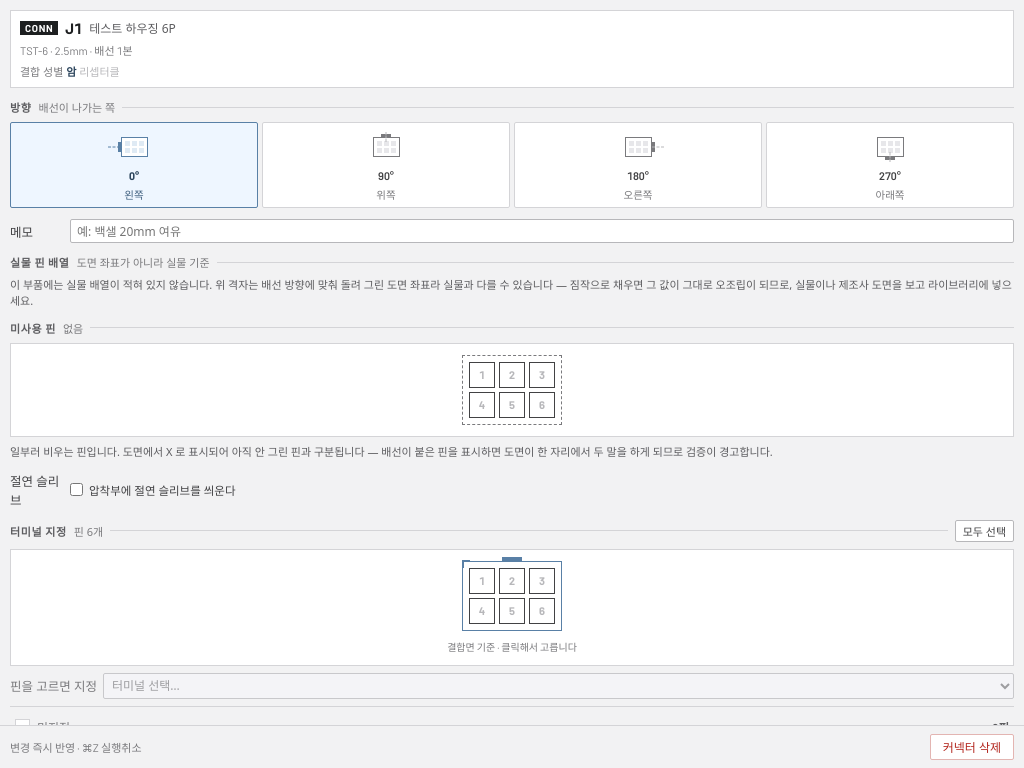
Test: (B) 커넥터 — 패드 다중 선택 후 일괄 지정 › 모두 선택 / 선택 해제로 전체 핀을 한 번에 다룬다
The width and height of the screenshot is (1024, 768).
Click the button "모두 선택" at (984, 531), box [955,520,1014,542]
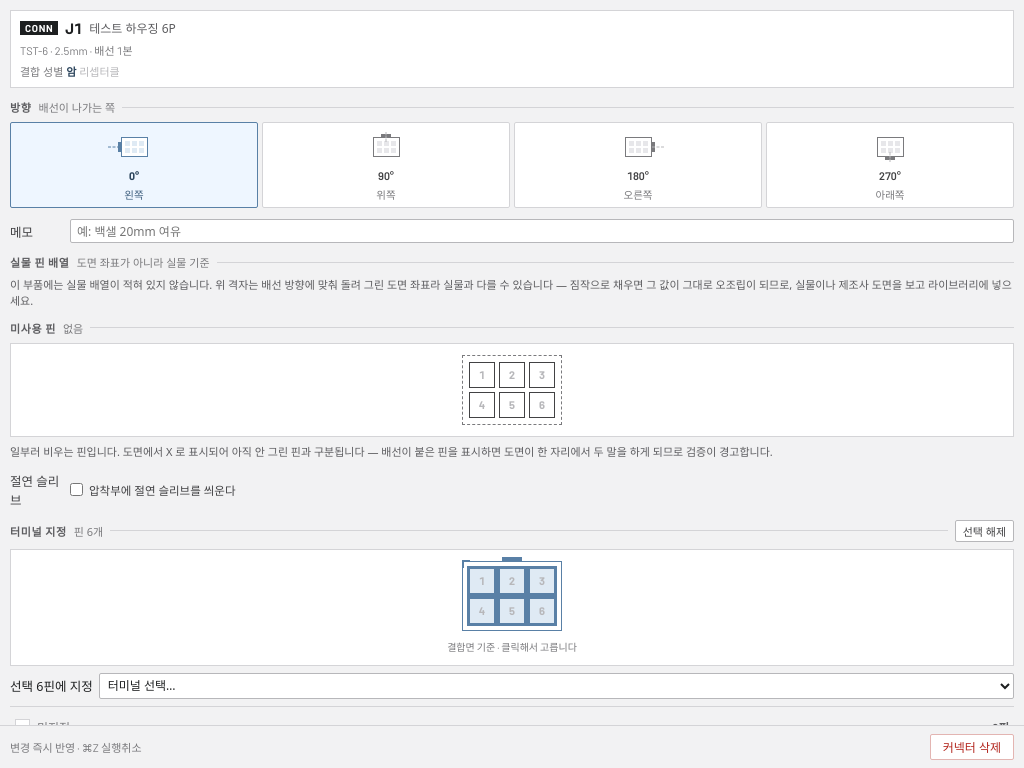
Now the text "선택 6핀에 지정" is shown, box [10,676,93,695]
Click the button "선택 해제" at (984, 531), box [955,520,1014,542]
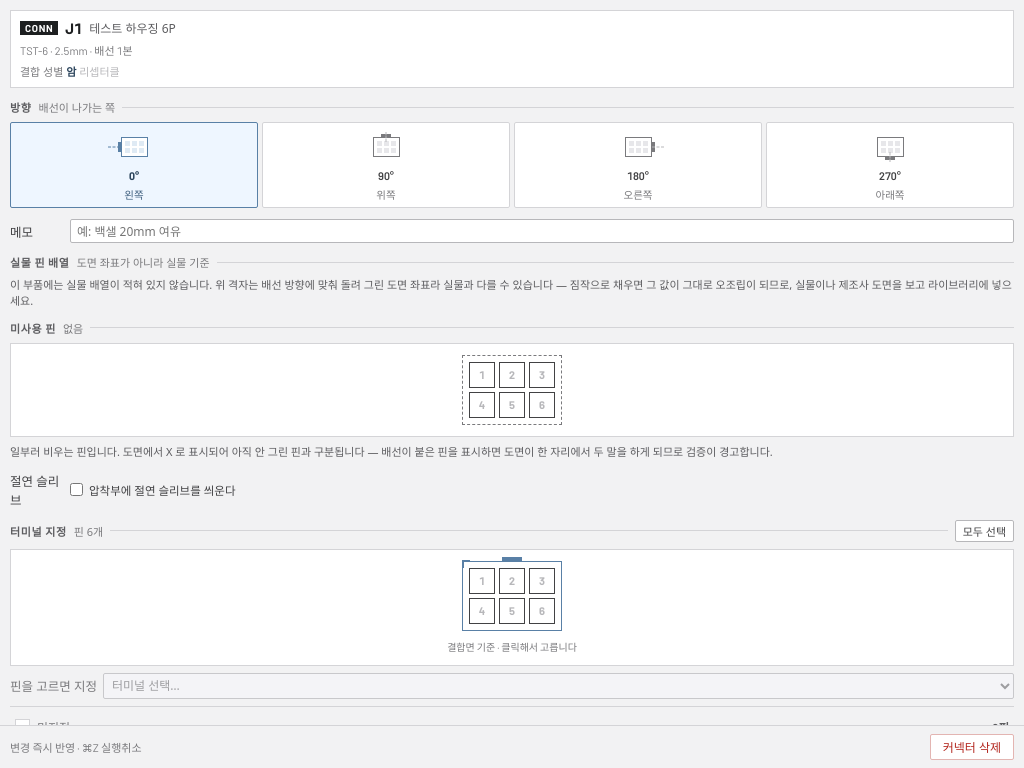
Now the text "핀을 고르면 지정" is shown, box [10,676,97,695]
